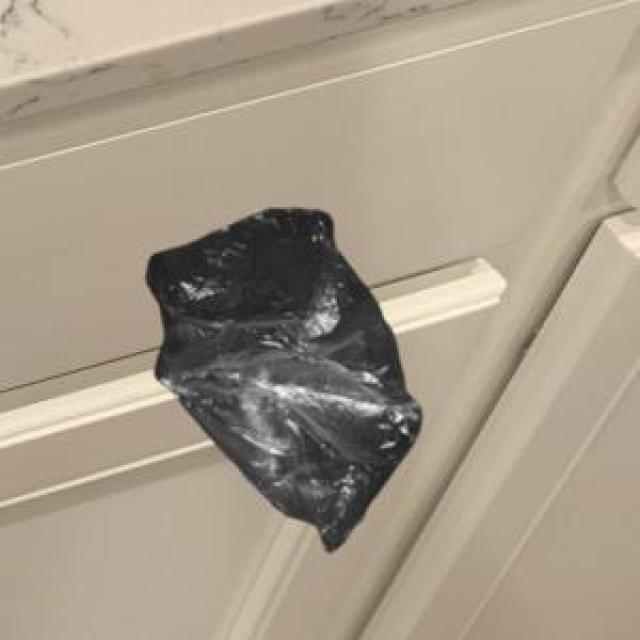Vinyl: (148, 209, 422, 549)
